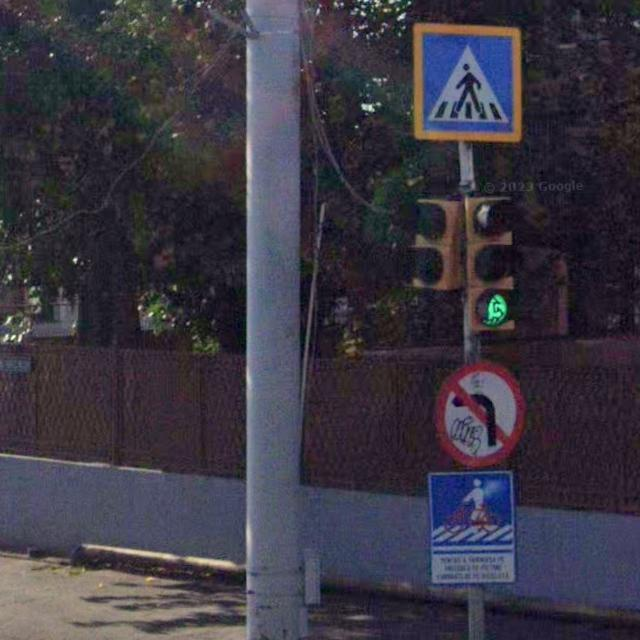info_crosswalk: (411, 22, 525, 143)
